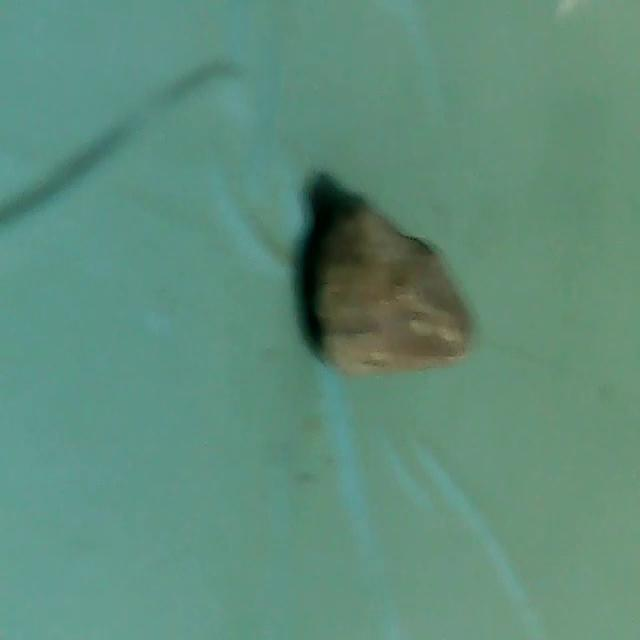rock: (298, 185, 483, 385)
